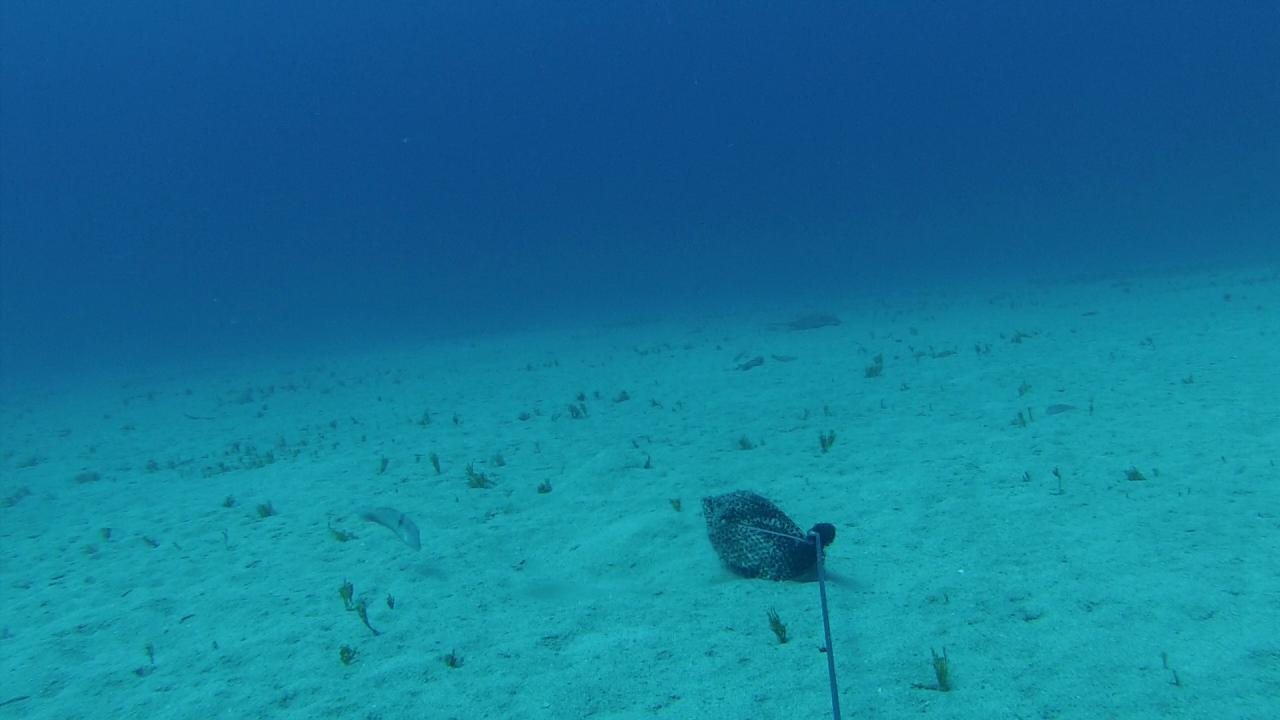dasyatis: (754, 309, 842, 333)
raor: (347, 501, 424, 553)
